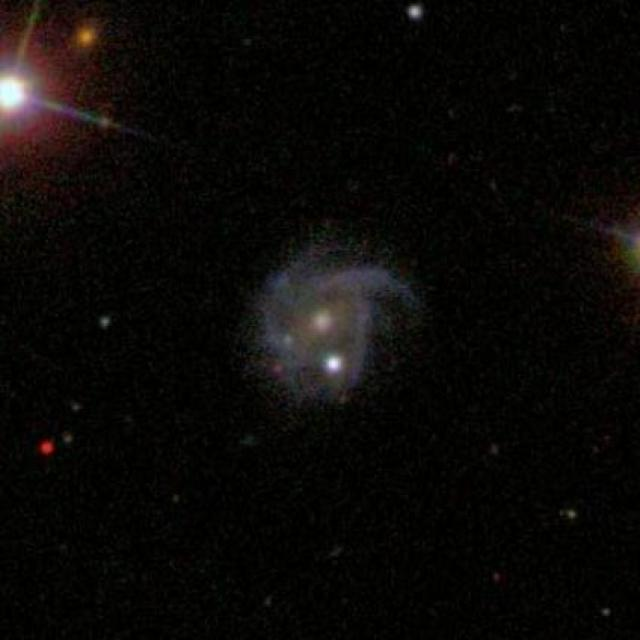galaxy: (248, 238, 424, 416), (69, 21, 103, 52), (322, 352, 348, 377), (60, 430, 80, 452), (67, 397, 84, 417), (406, 4, 425, 21), (42, 441, 57, 461), (97, 314, 114, 331), (564, 507, 581, 524), (603, 606, 612, 621)
star: (1, 3, 165, 162), (579, 200, 640, 280)
